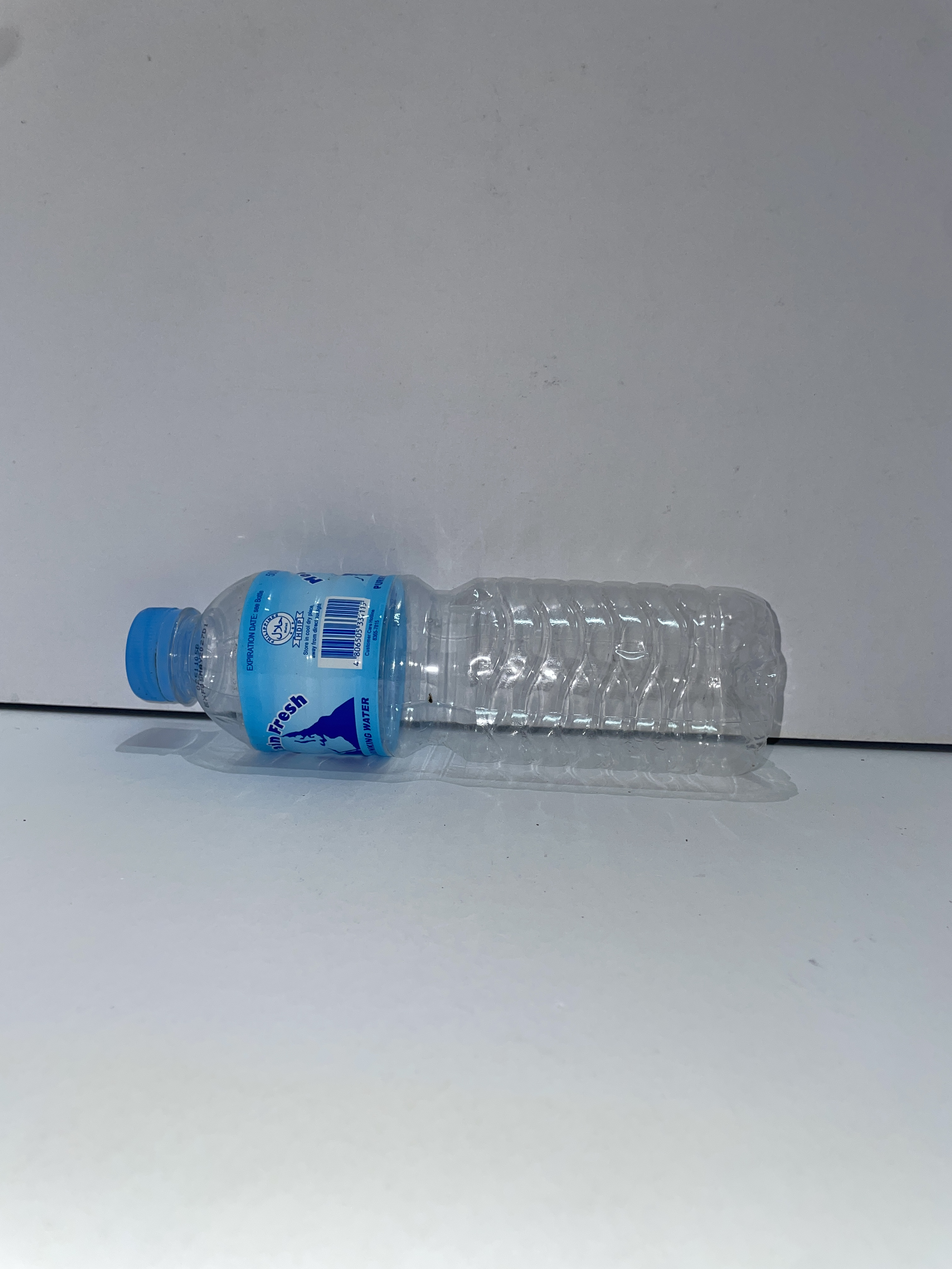Mountain Fresh 500ml: (126, 569, 785, 791)
